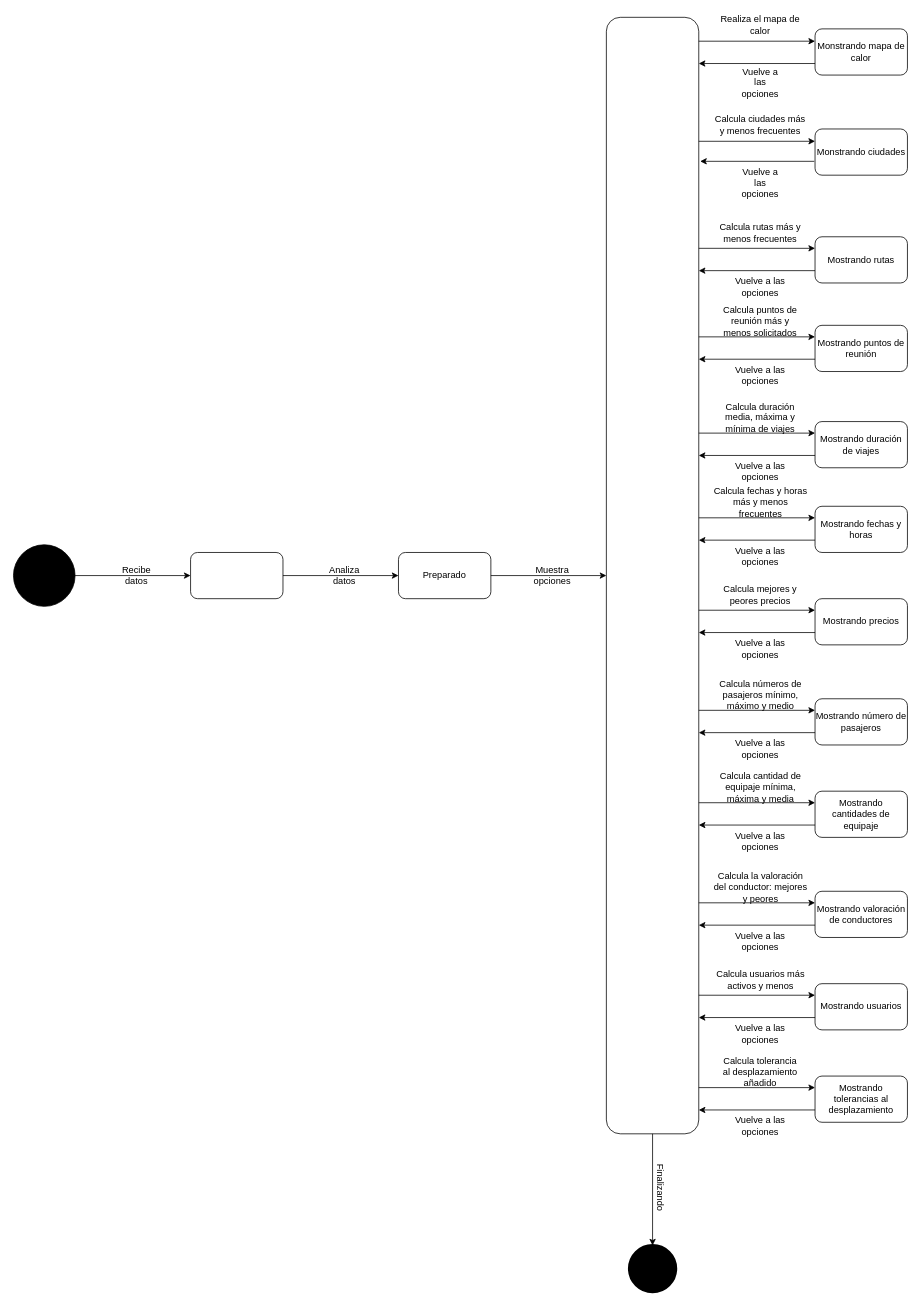
The diagram is 921 pixels wide and 1306 high, and some of its shapes have lost their labels. Here are the shapes that lost their labels. From the top down, the centre of each, then its label:
At point 236,575: "Iniciado".
At point 652,575: "En espera de opción".
